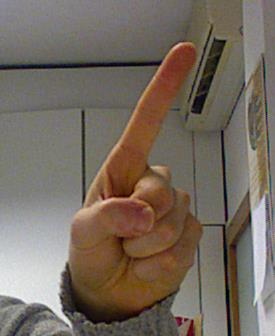up: (63, 38, 204, 298)
